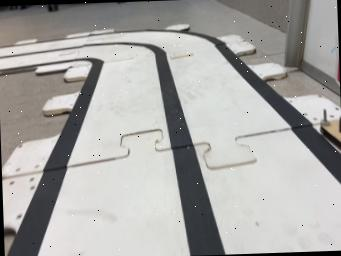street: (0, 28, 341, 256), (0, 28, 341, 256), (0, 28, 341, 256)
